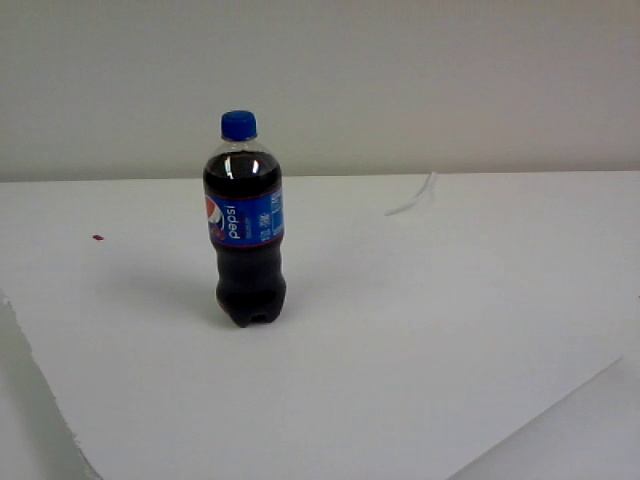botolplastik: (204, 111, 286, 328)
